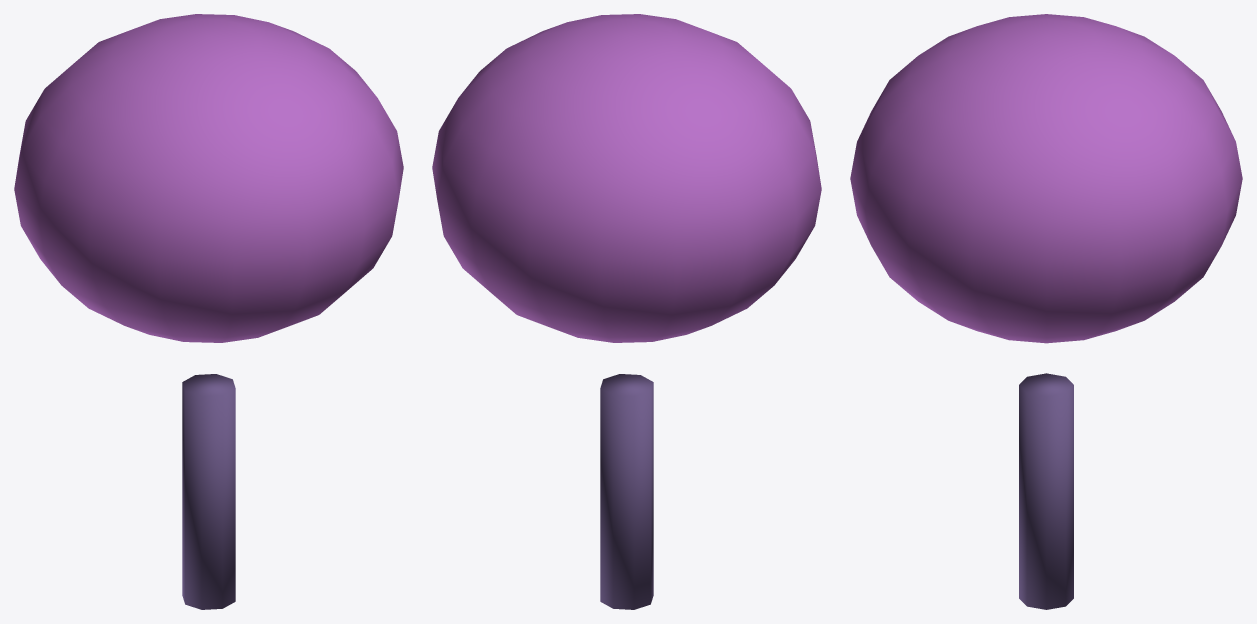
Rendered from tree_alien_v1.glb.
3 views of the same model, side by side, from view 1: azimuth 30°, elevation 25°; view 2: azimuth 150°, elevation 25°; view 3: azimuth 270°, elevation 25° (orthographic).
Visible parts, largest first — view 1: canopy, trunk; view 2: canopy, trunk; view 3: canopy, trunk.
Part boxes in pixels (left/top/right/bottom): canopy: left=14, top=14, right=403, bottom=342; trunk: left=182, top=374, right=235, bottom=609; canopy: left=432, top=14, right=821, bottom=342; trunk: left=600, top=374, right=653, bottom=609; canopy: left=850, top=14, right=1242, bottom=343; trunk: left=1019, top=373, right=1073, bottom=609.
Bounding box in the file's own units: 5 × 7.9 × 5.
